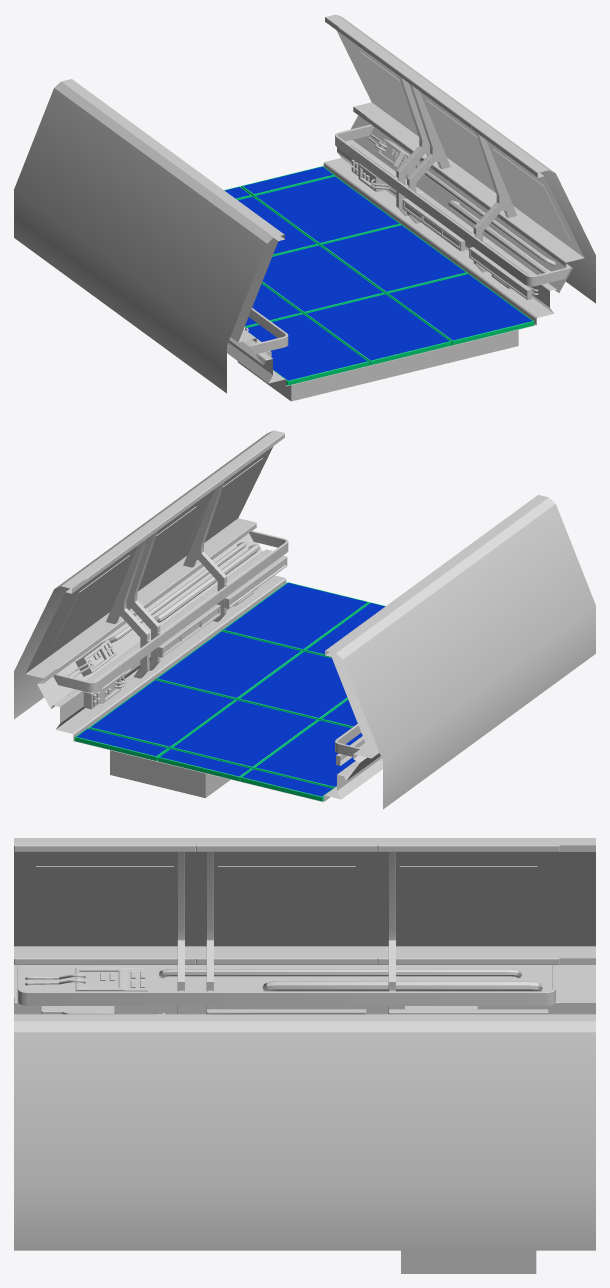
Rendered from corridor_scifi_01.fbx.
3 renders of one model, top to bottom at view 1: azimuth 30°, elevation 25°; view 2: azimuth 150°, elevation 25°; view 3: azimuth 270°, elevation 25°, orthographic. The views are drawn at different scales.
Parts seen in each view (by area): view 1: ScifiCorridorTest, Cloner; view 2: ScifiCorridorTest, Cloner; view 3: ScifiCorridorTest.
Boxes of the visible parts, <box> form: ScifiCorridorTest: <box>14,14,595,401</box>; Cloner: <box>224,166,534,385</box>; ScifiCorridorTest: <box>14,430,595,809</box>; Cloner: <box>74,582,385,801</box>; ScifiCorridorTest: <box>14,838,595,1273</box>.
Bounding box in the file's own units: 800 × 410 × 800.
